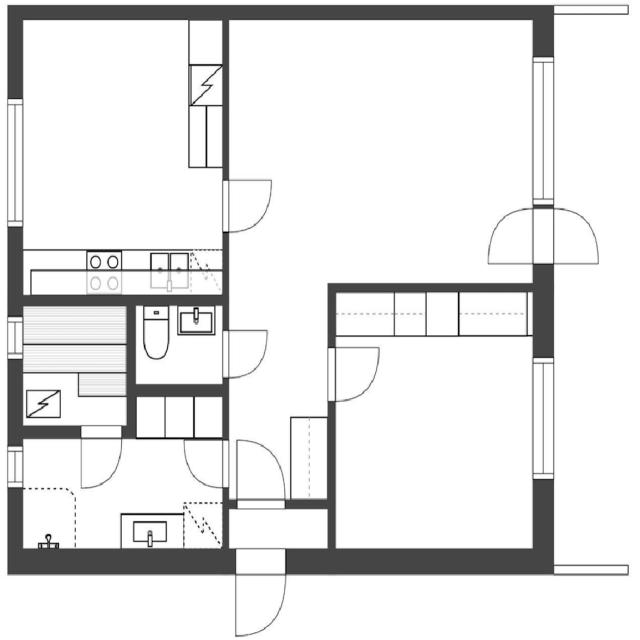door: (232, 561, 288, 638), (232, 434, 288, 504), (540, 204, 601, 264), (486, 206, 546, 266), (328, 345, 389, 402), (218, 176, 276, 235), (77, 426, 127, 492), (175, 441, 237, 487), (221, 327, 272, 379)
window: (530, 55, 556, 202), (530, 354, 556, 480), (4, 98, 25, 225), (2, 314, 27, 355), (3, 446, 28, 486)
zone: (223, 12, 552, 285), (8, 13, 230, 300), (330, 285, 548, 566), (9, 441, 224, 562), (7, 310, 129, 431), (134, 306, 227, 390), (226, 506, 332, 554)
